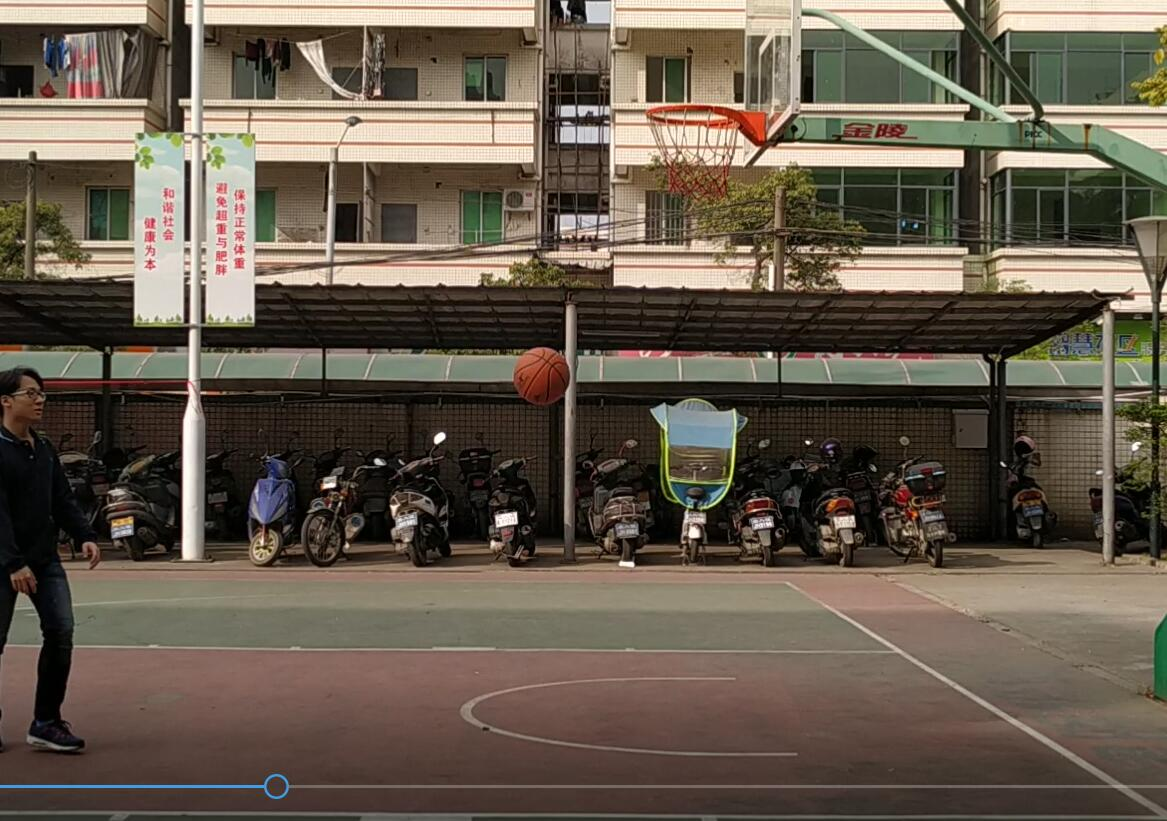basketball: (511, 346, 573, 407)
